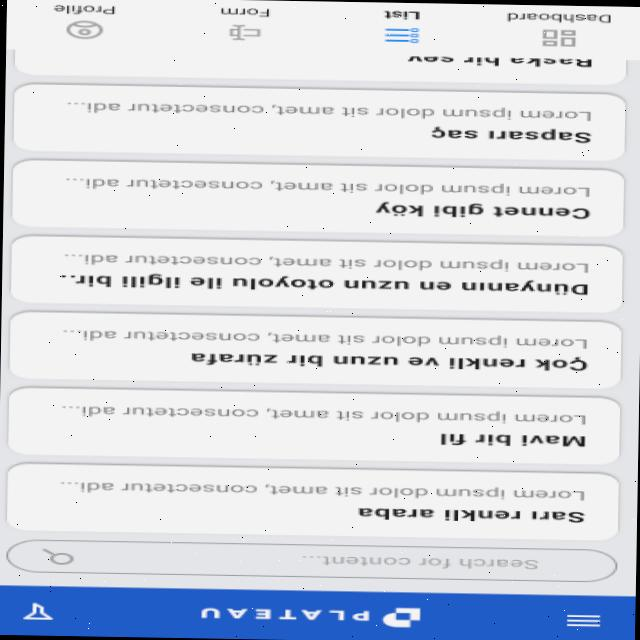QLabel: (56, 271, 592, 295), (54, 478, 588, 502), (59, 325, 592, 349), (61, 250, 591, 273), (56, 402, 590, 424), (61, 175, 594, 197), (63, 98, 596, 120), (188, 348, 588, 370), (352, 504, 588, 523), (372, 200, 592, 220), (426, 125, 594, 143), (400, 55, 598, 68), (437, 431, 588, 448), (504, 9, 614, 23), (50, 2, 116, 15), (218, 6, 272, 16), (381, 8, 421, 20)
VAppBar: (0, 584, 635, 640)
VBottomNavigation: (4, 0, 640, 58)
VBtn: (494, 5, 624, 51), (42, 0, 125, 42), (208, 1, 284, 46), (370, 3, 436, 48)
VCard: (11, 80, 626, 162), (5, 460, 618, 541), (8, 308, 620, 389), (6, 156, 625, 236), (5, 384, 620, 464), (7, 233, 624, 312), (14, 48, 626, 85)
VIcon: (538, 26, 580, 46), (65, 18, 104, 39), (382, 24, 422, 44), (561, 610, 603, 628), (225, 21, 262, 41), (20, 599, 54, 620)
VImg: (195, 600, 424, 628)
VTextField: (4, 536, 620, 582)
